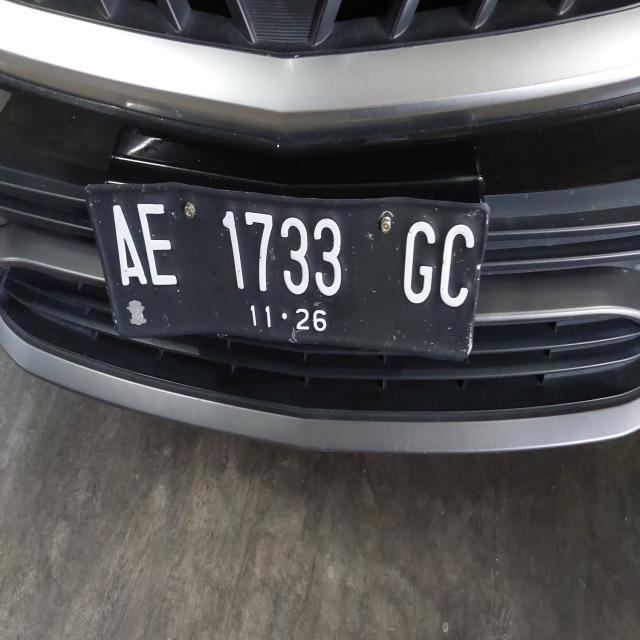1: (214, 200, 248, 298)
3: (312, 208, 344, 303), (279, 208, 311, 301)
7: (248, 203, 277, 303)
A: (106, 196, 148, 290)
C: (440, 215, 478, 312)
E: (134, 193, 180, 301)
G: (402, 216, 438, 310)
